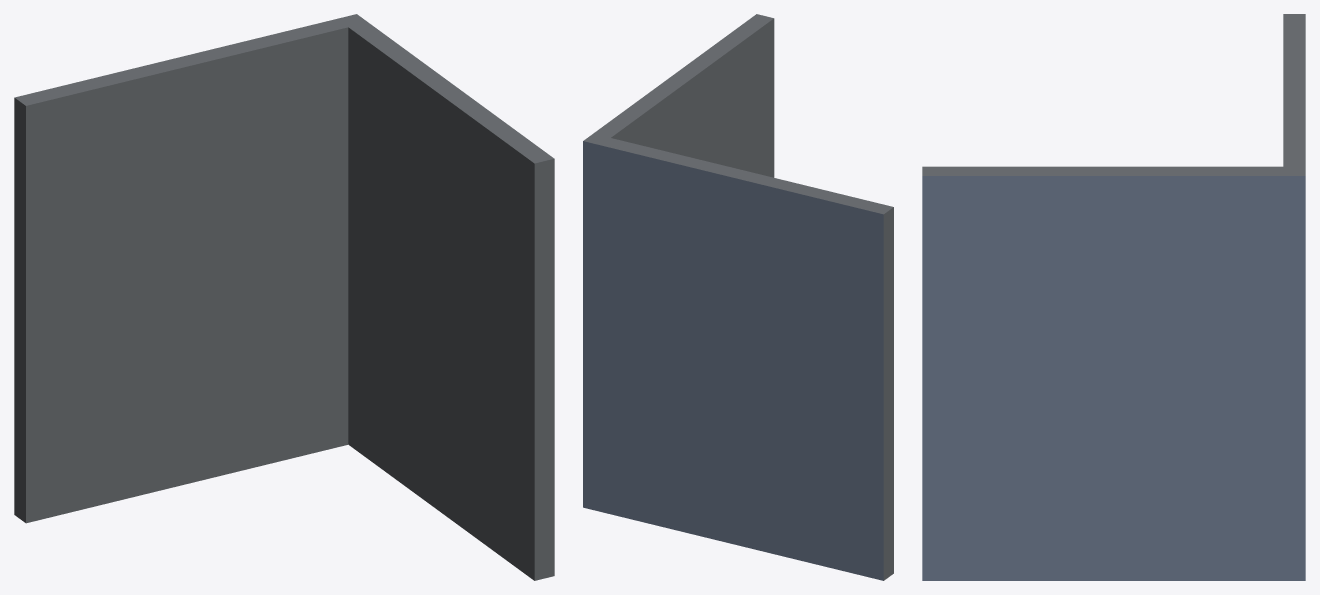
File: Wall3_C4_06.fbx
The picture shows the model from 3 angles, left to right: view 1: azimuth 30°, elevation 25°; view 2: azimuth 150°, elevation 25°; view 3: azimuth 270°, elevation 25°; orthographic projection. The views are drawn at different scales.
Parts seen in each view (by area): view 1: Wall3_C4_06; view 2: Wall3_C4_06; view 3: Wall3_C4_06.
Boxes of the visible parts, <box> form: Wall3_C4_06: <box>14,14,554,580</box>; Wall3_C4_06: <box>583,14,893,580</box>; Wall3_C4_06: <box>922,14,1305,580</box>.
Bounding box in the file's own units: 258 × 300 × 258.
